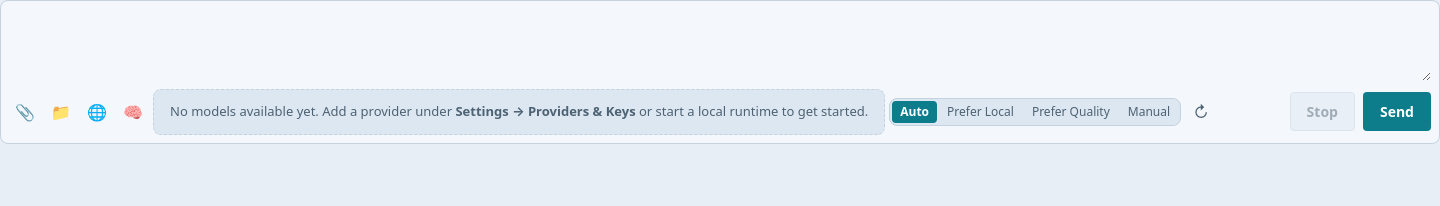
Scenario: chat surface › Composer surfaces a visible failed-to-send affordance when send_message rejects
Type "hello" into the text box named "Message" at (720, 45), box [9, 9, 1431, 81]
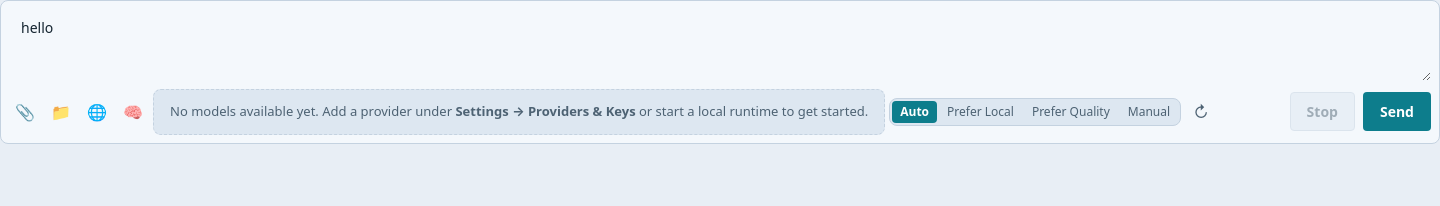
Press Enter in the text box named "Message", box [9, 9, 1431, 81]
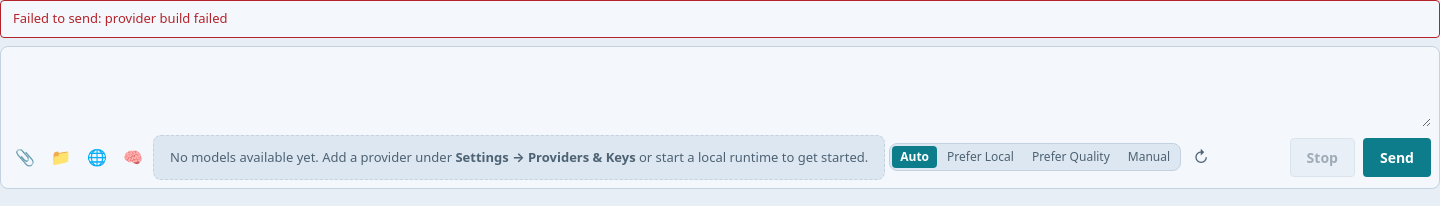
Now the message reads "Failed to send: provider build failed", box [0, 0, 1439, 38]
